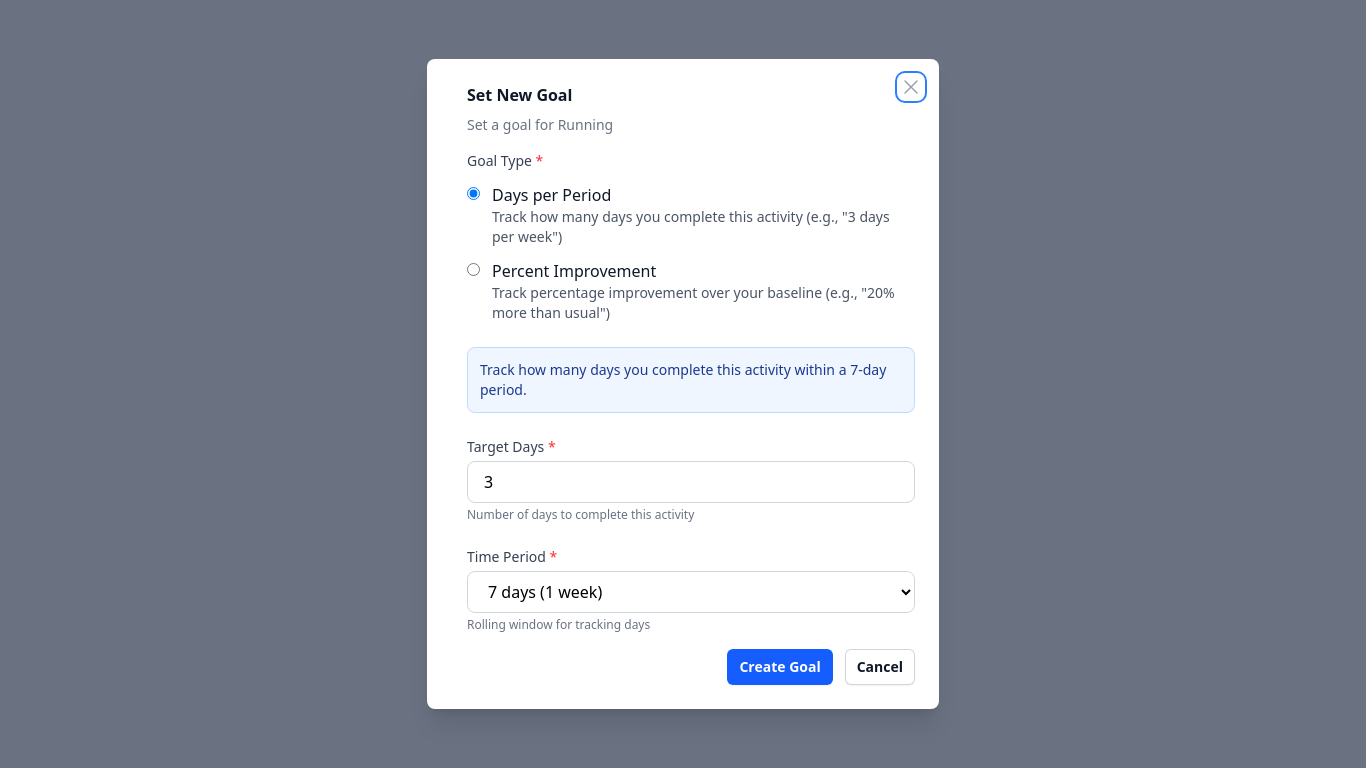
Test: GoalSettingModal › Target Value Input (Task 3.20) › should validate days cannot exceed period for days_per_period
The image size is (1366, 768).
Note: Set target to 10 days (period is 7 by default)
Replace the text in the number field labelled "Target Days *" with "10" at [691, 482], box [467,461,915,503]
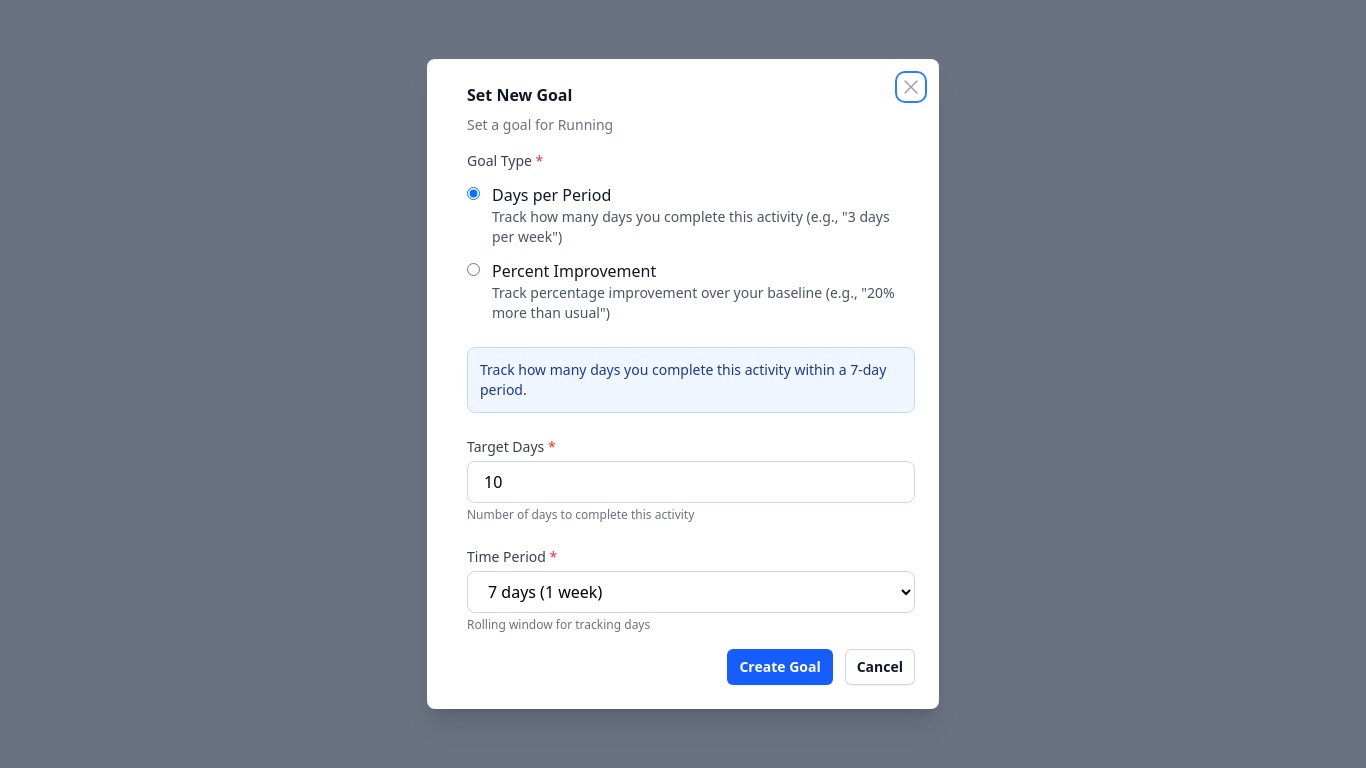
Click the button "Create Goal" at [780, 667], box [727,649,833,685]
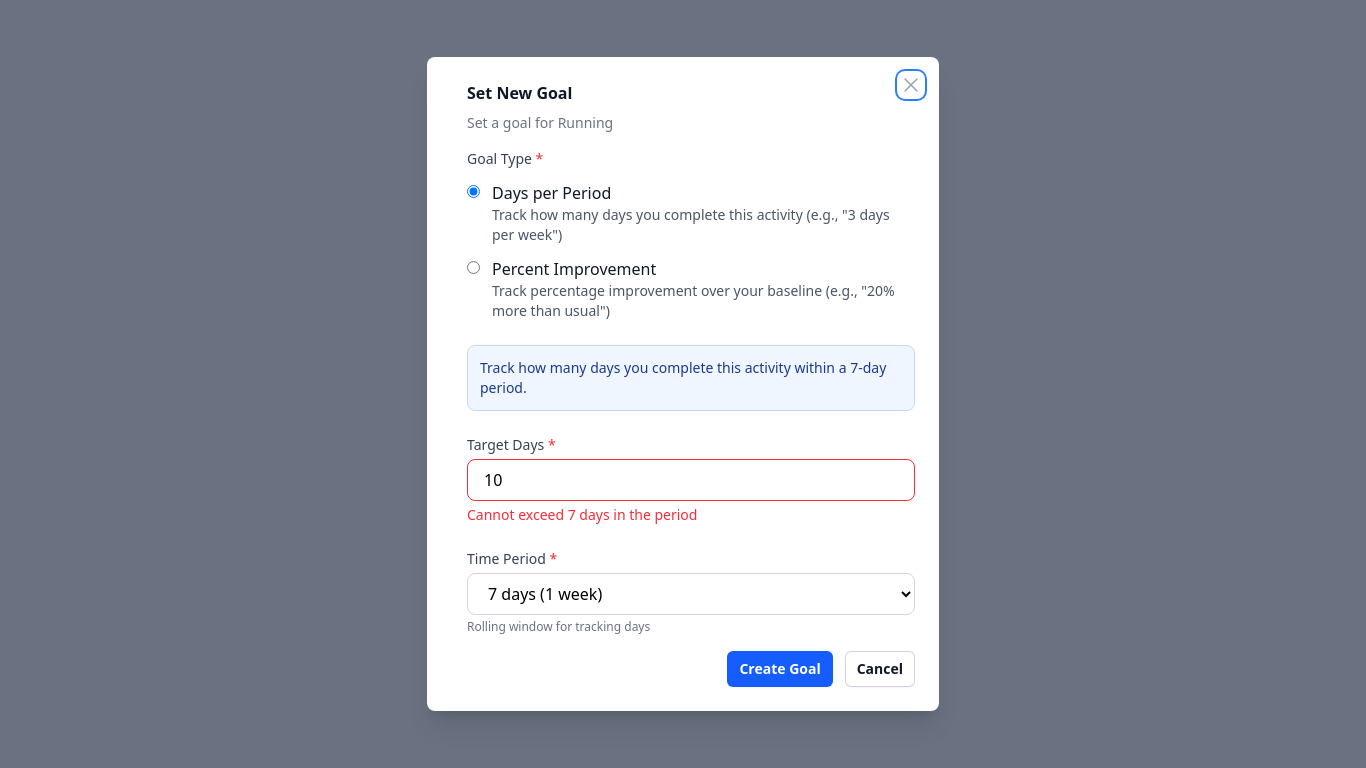
Now the text "Cannot exceed 7 days in the period" is shown, box [467,505,697,524]
